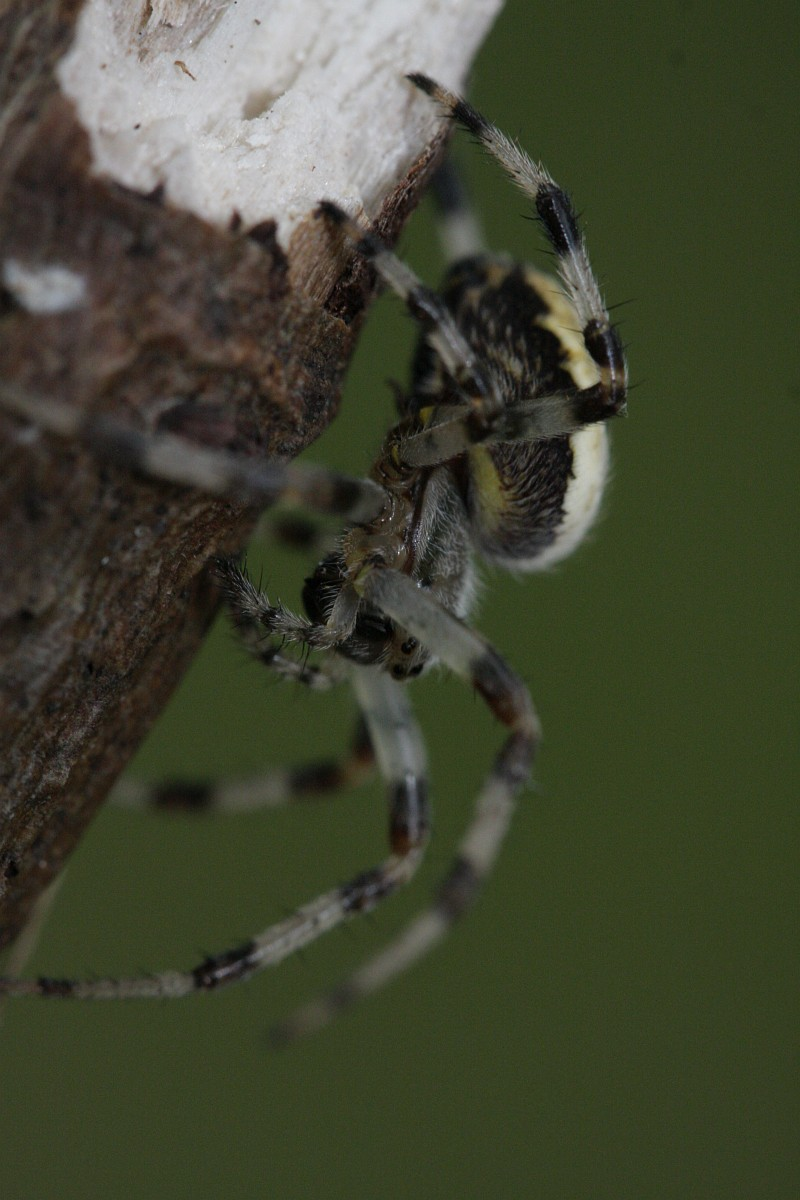spider: (1, 28, 729, 1102)
